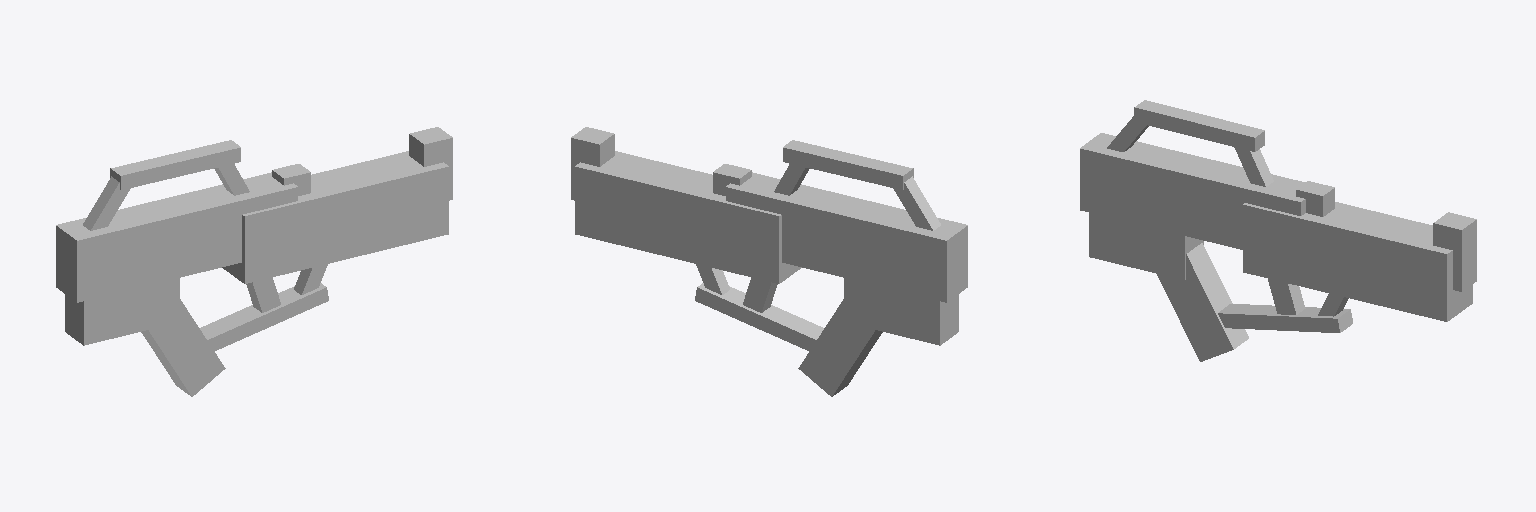
Rendered from assault_rifle.obj.
3 renders of one model, left to right at view 1: azimuth 30°, elevation 25°; view 2: azimuth 150°, elevation 25°; view 3: azimuth 330°, elevation 25°, orthographic.
Visible parts, largest first — view 1: Box011; view 2: Box011; view 3: Box011.
Boxes of the visible parts, <box> form: Box011: <box>56,127,452,396</box>; Box011: <box>571,127,967,396</box>; Box011: <box>1080,100,1476,361</box>.
Bounding box in the file's own units: 63.8 × 37.97 × 7.57.